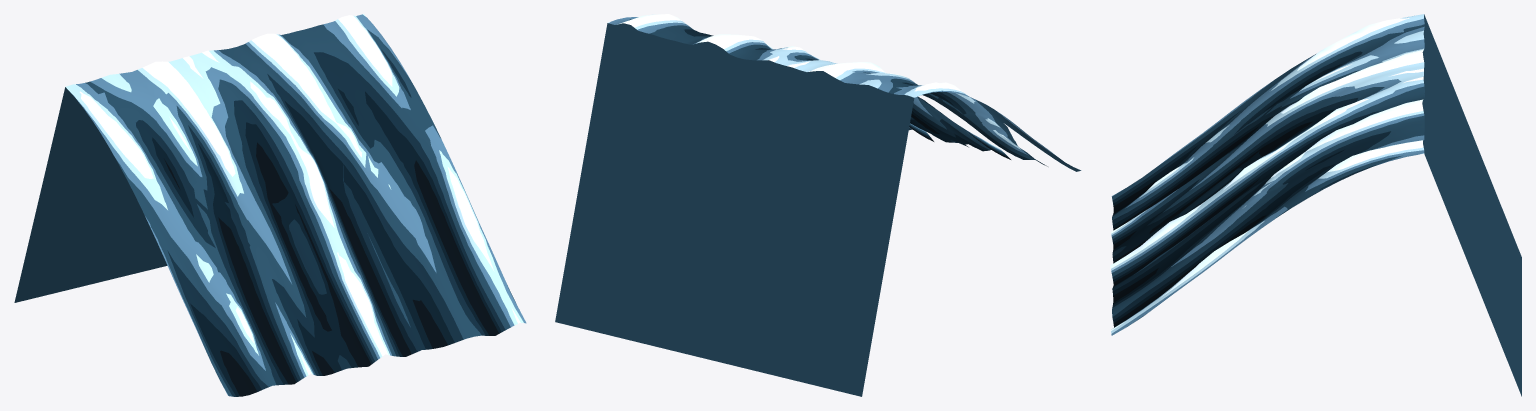
File: torm_fall_tm_236.glb
The picture shows the model from 3 angles, left to right: view 1: azimuth 30°, elevation 25°; view 2: azimuth 150°, elevation 25°; view 3: azimuth 270°, elevation 25°; orthographic projection. The views are drawn at different scales.
Parts seen in each view (by area): view 1: torm_fall_tm_236; view 2: torm_fall_tm_236; view 3: torm_fall_tm_236.
Part boxes in pixels (x1=…): torm_fall_tm_236: x1=14, y1=14, x2=526, y2=396; torm_fall_tm_236: x1=555, y1=14, x2=1081, y2=396; torm_fall_tm_236: x1=1110, y1=14, x2=1521, y2=396.
Size of the model in its own units: 24 by 19.86 by 29.89.
